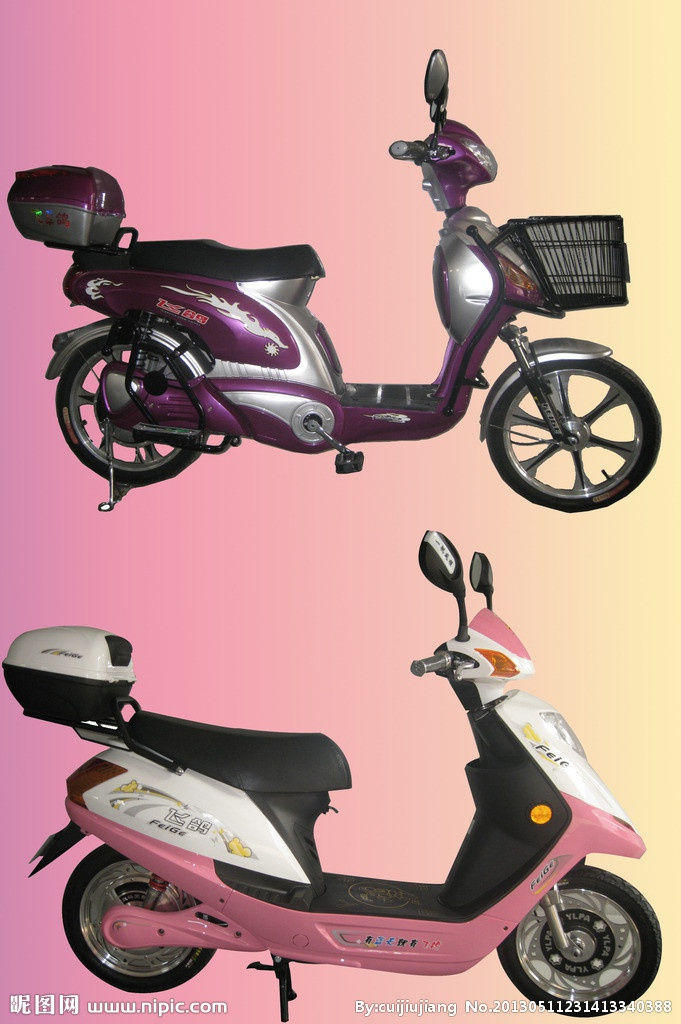non-vehicle: (9, 529, 662, 1016), (4, 109, 662, 520)
